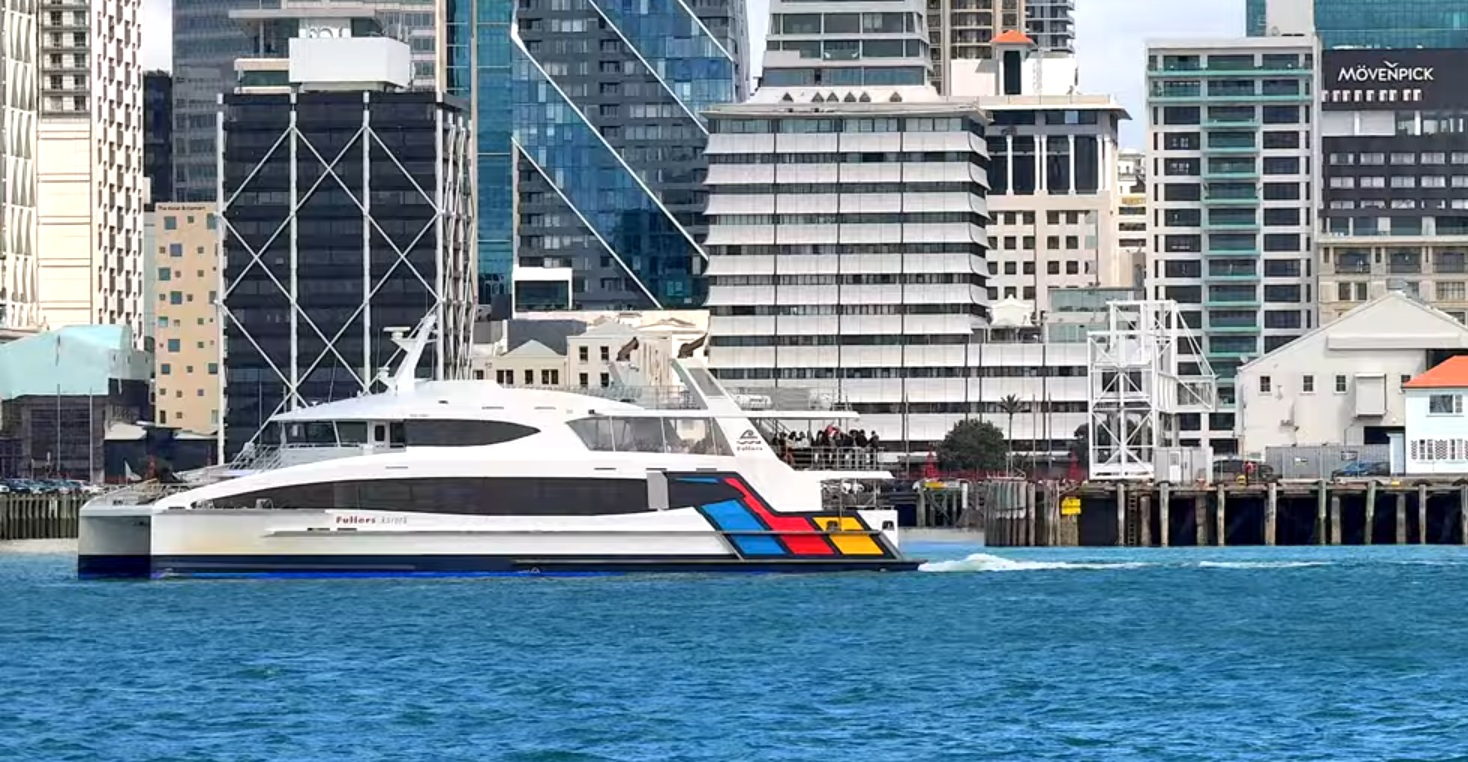ferry: (77, 316, 924, 581)
